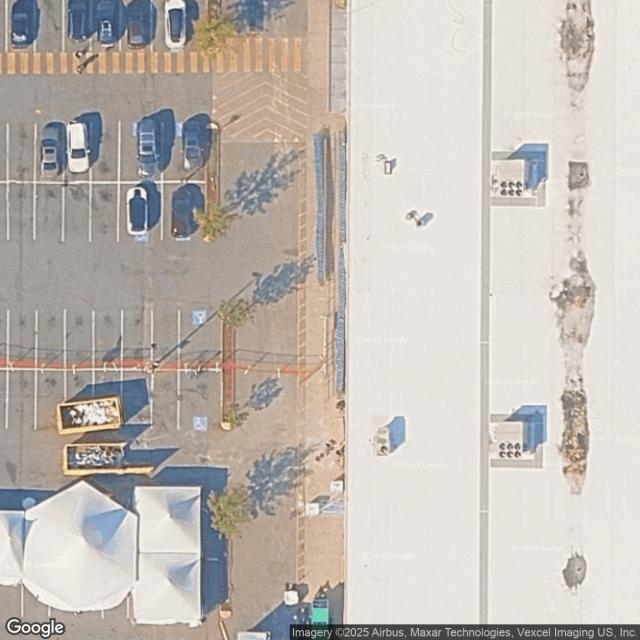car: (135, 120, 163, 180), (169, 188, 200, 240), (10, 0, 39, 47), (181, 121, 207, 172), (68, 121, 92, 176), (127, 1, 155, 48), (40, 125, 66, 175), (95, 0, 123, 46), (125, 187, 150, 236), (164, 0, 188, 50), (67, 0, 93, 43)
